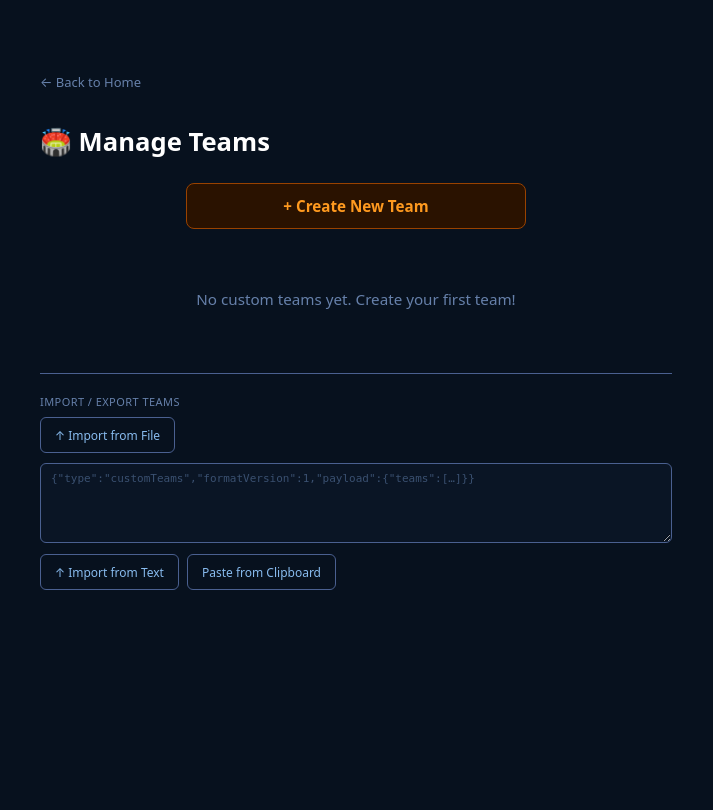
Test: ManageTeamsScreen › returns to list view when editor Cancel is clicked
Click the button with test id "manage-teams-create-button". click: (356, 206)
box: [186,183,526,229]
(page scrolled)
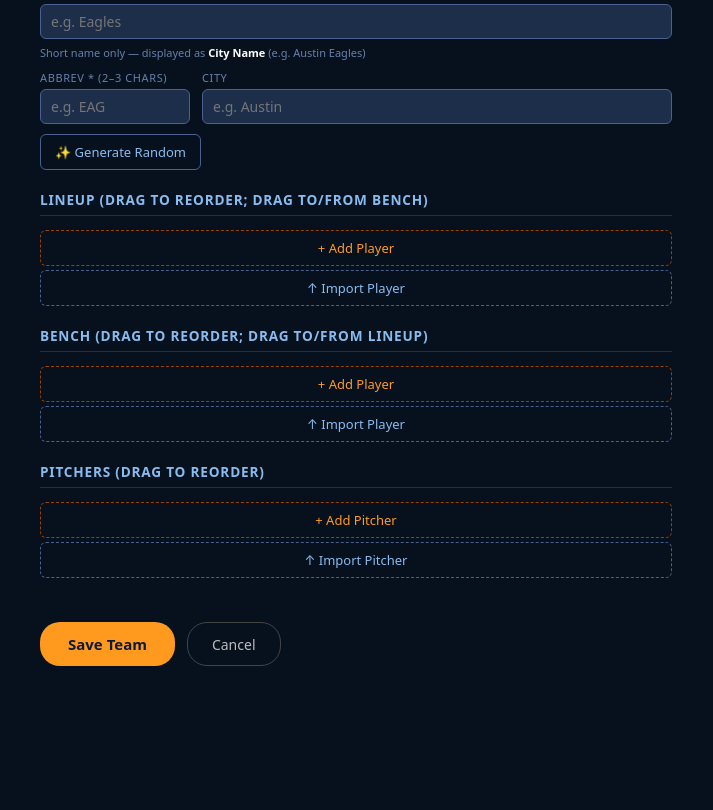
Click the button "Cancel". click: (234, 644)
box: [187,622,280,666]
(page scrolled)
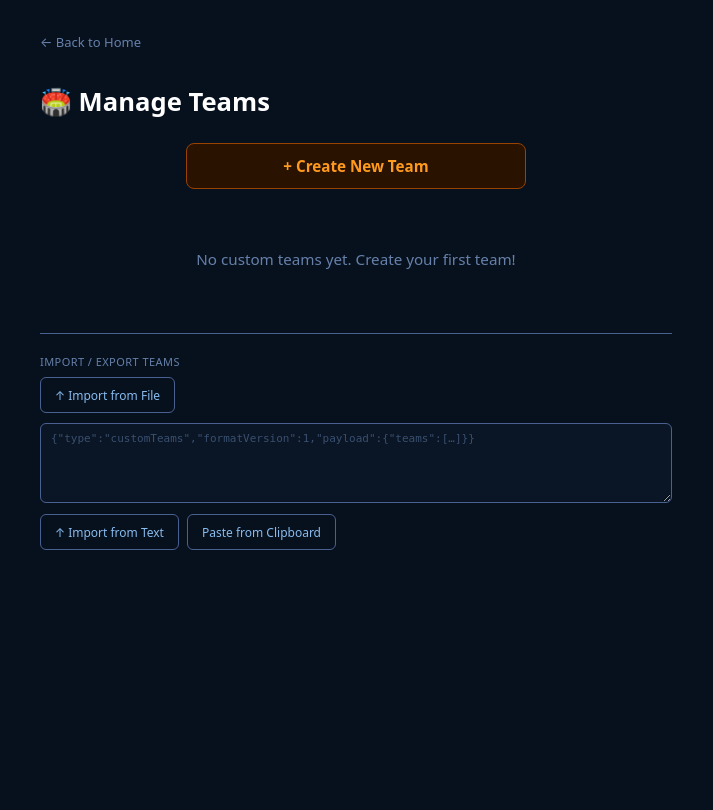
Check: the element with test id "manage-teams-screen" is shown
